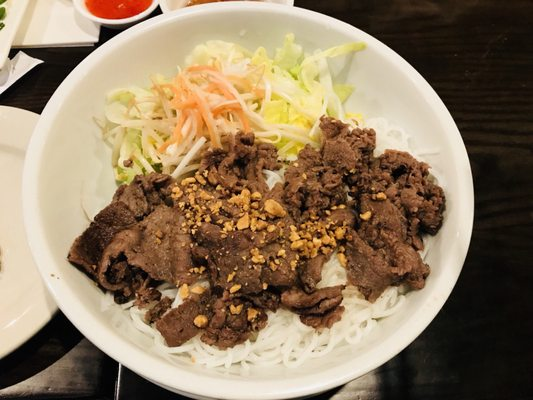sushi: (20, 2, 490, 397), (72, 0, 160, 33)
